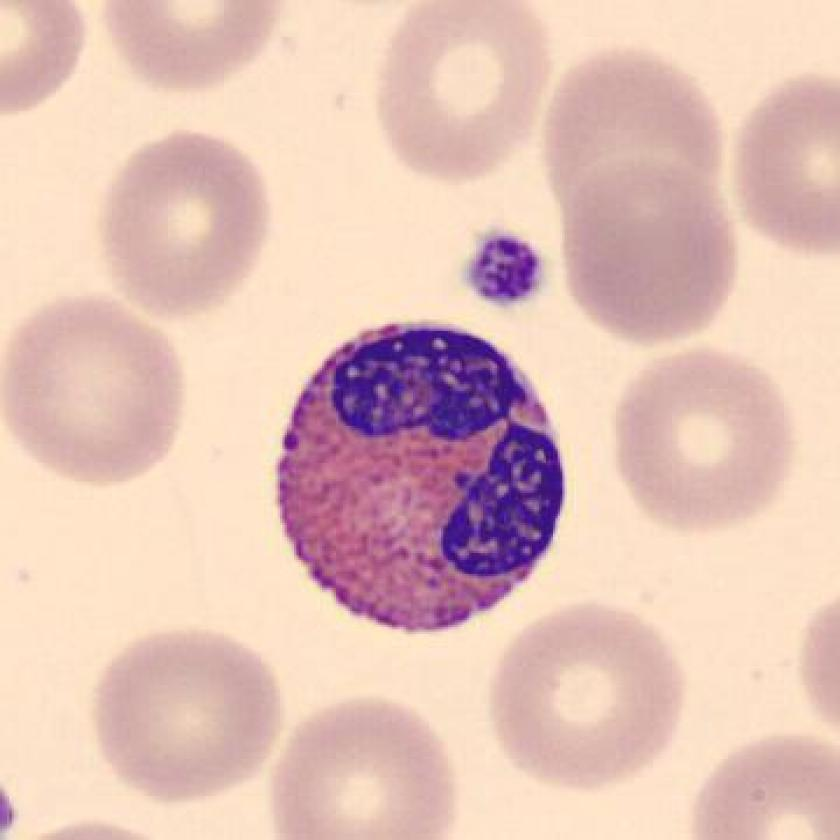eosinophil: (260, 316, 575, 644)
